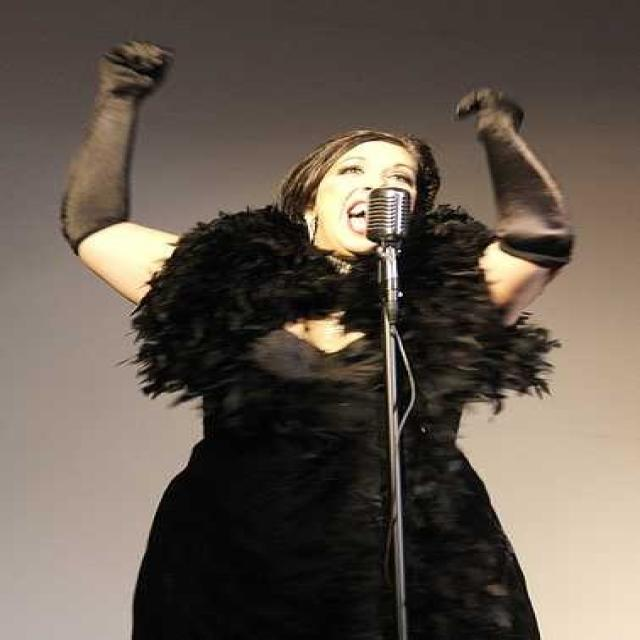microphone: (352, 184, 424, 261)
